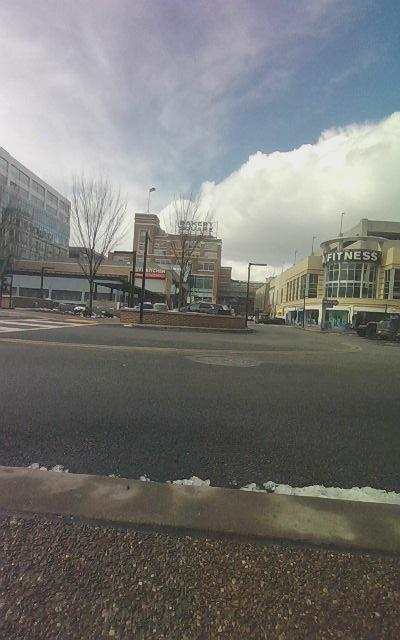curb: (0, 468, 399, 639)
road: (0, 314, 399, 499)
